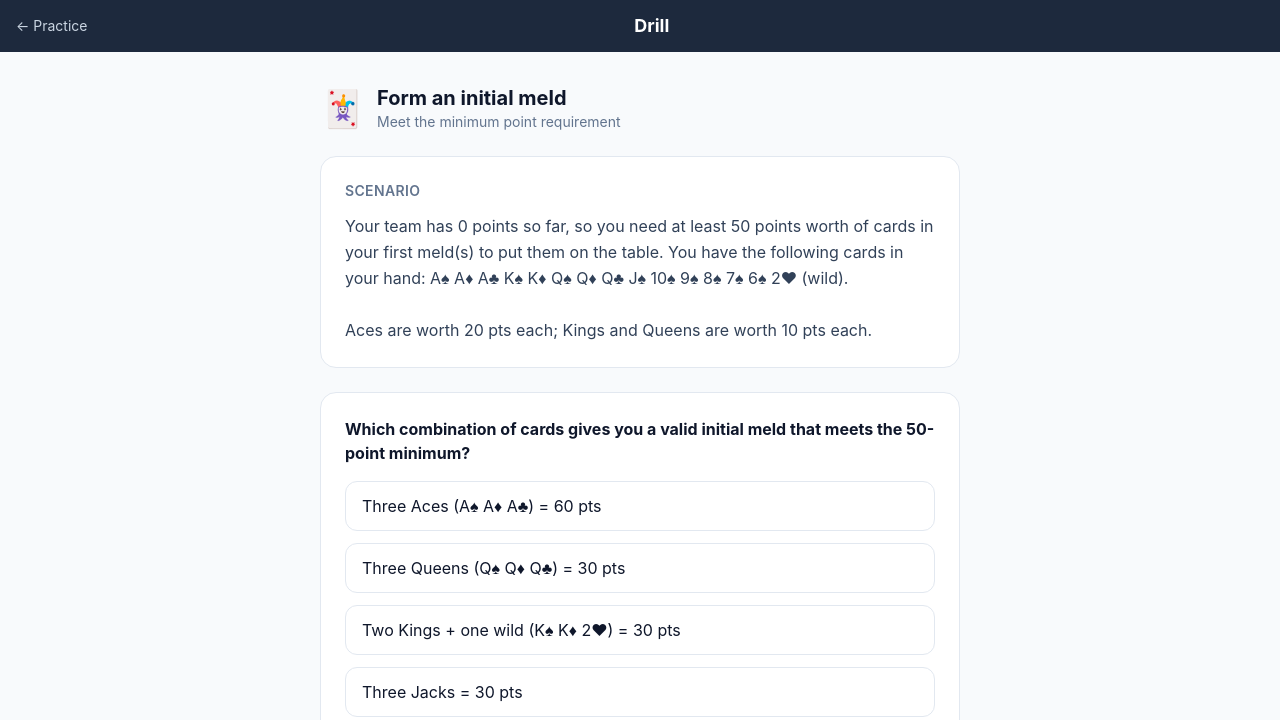
Test: PracticeScenario › does not allow answering again after an answer is selected
Click the button "Three Aces (A♠ A♦ A♣) = 60 pts".
click(482, 506)  # box [345,481,935,531]
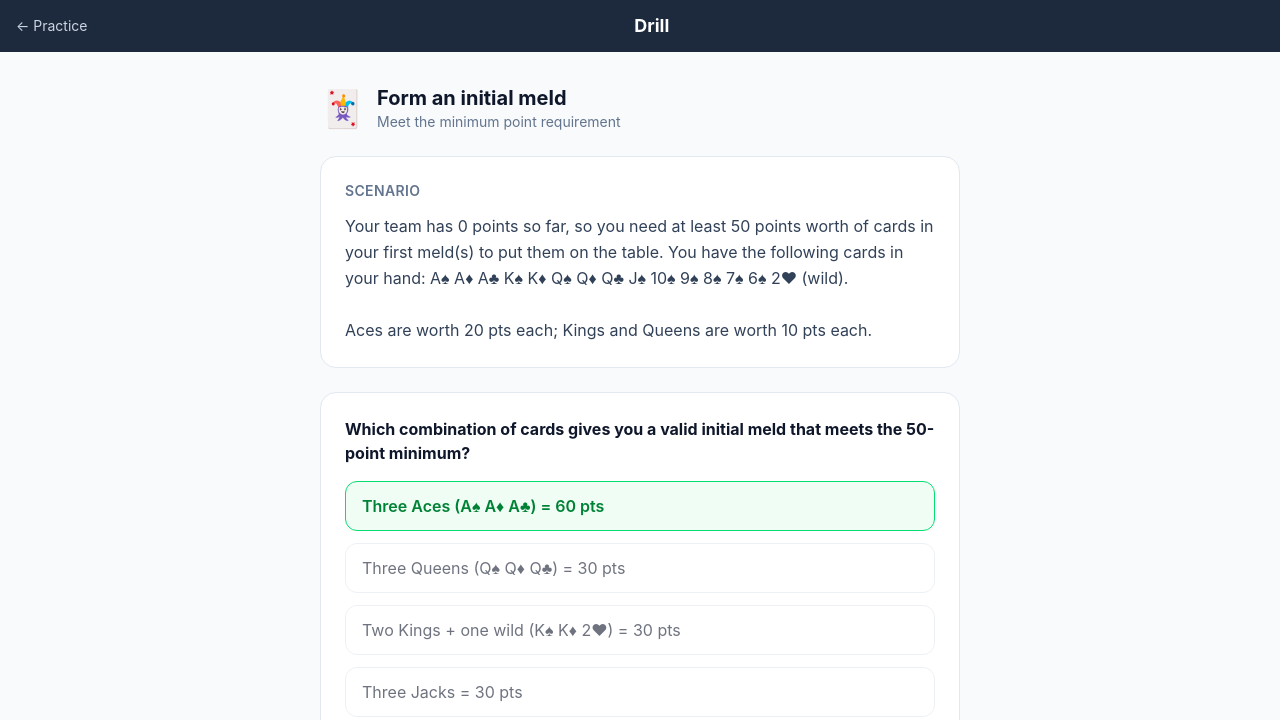
Expected: the button "Three Aces (A♠ A♦ A♣) = 60 pts" is disabled, [345,481,935,531]
